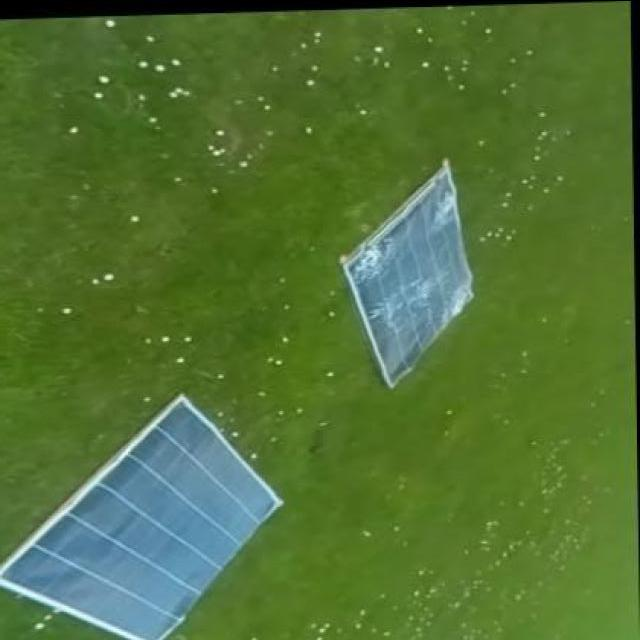cracked: (338, 157, 476, 386)
